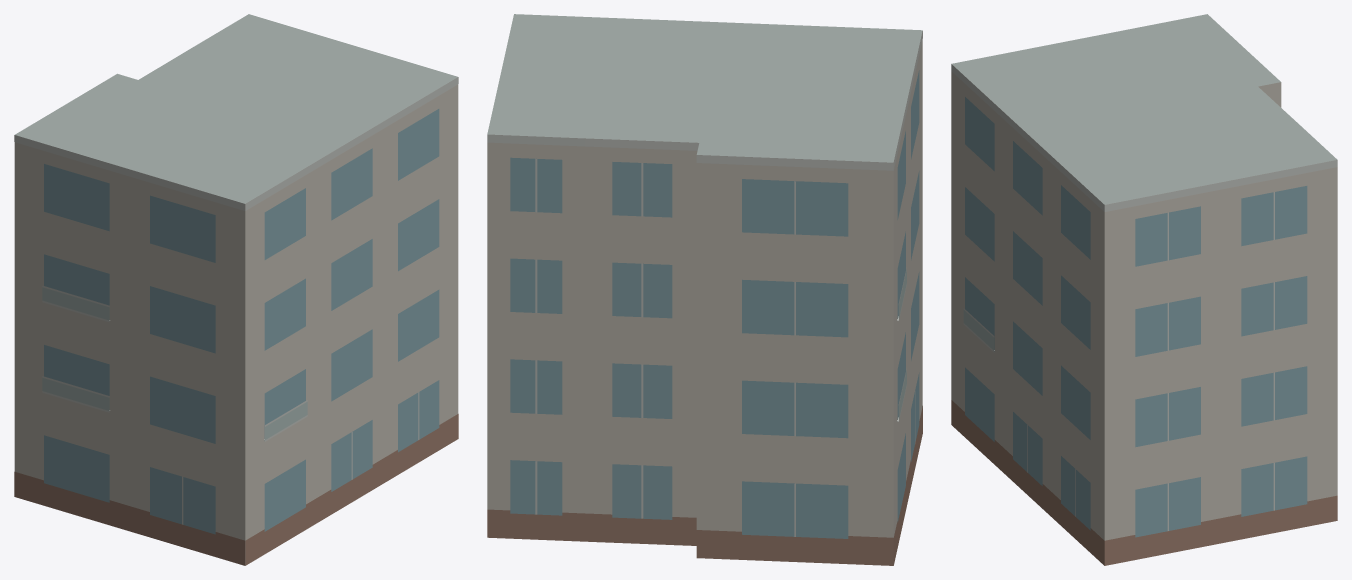
The model's file is residential-1f352722-f3c2-4e7c-9955-45b3510ef9f4.glb.
3 views of the same model, side by side, from view 1: azimuth 30°, elevation 25°; view 2: azimuth 150°, elevation 25°; view 3: azimuth 270°, elevation 25° (orthographic). The views are drawn at different scales.
Visible parts, largest first — view 1: residential-1f352722-f3c2-4e7c-9955-45b3510ef9f4.tmp; view 2: residential-1f352722-f3c2-4e7c-9955-45b3510ef9f4.tmp; view 3: residential-1f352722-f3c2-4e7c-9955-45b3510ef9f4.tmp.
Part boxes in pixels (box(x1,y1,x2,y2)): residential-1f352722-f3c2-4e7c-9955-45b3510ef9f4.tmp: box(14, 14, 458, 565); residential-1f352722-f3c2-4e7c-9955-45b3510ef9f4.tmp: box(487, 14, 922, 565); residential-1f352722-f3c2-4e7c-9955-45b3510ef9f4.tmp: box(951, 14, 1337, 565).
Size of the model in its own units: 13.85 by 12.2 by 11.84.
